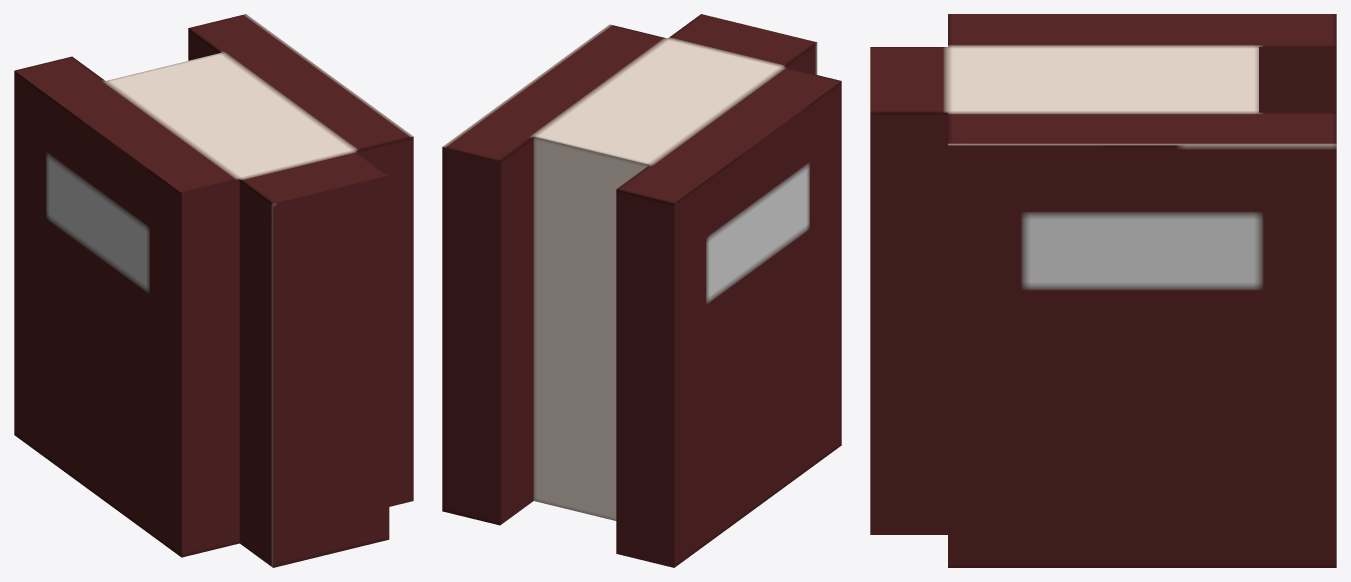
The model's file is RedBook_9.fbx.
3 views of the same model, side by side, from view 1: azimuth 30°, elevation 25°; view 2: azimuth 150°, elevation 25°; view 3: azimuth 270°, elevation 25° (orthographic). The views are drawn at different scales.
Visible parts, largest first — view 1: RedBook_9.001; view 2: RedBook_9.001; view 3: RedBook_9.001.
Boxes of the visible parts, <box> form: RedBook_9.001: <box>14,14,413,567</box>; RedBook_9.001: <box>442,14,841,567</box>; RedBook_9.001: <box>870,14,1336,567</box>.
Size of the model in its own units: 0.4 by 0.6 by 0.6.
Materials: 1 (1 with a texture image).
